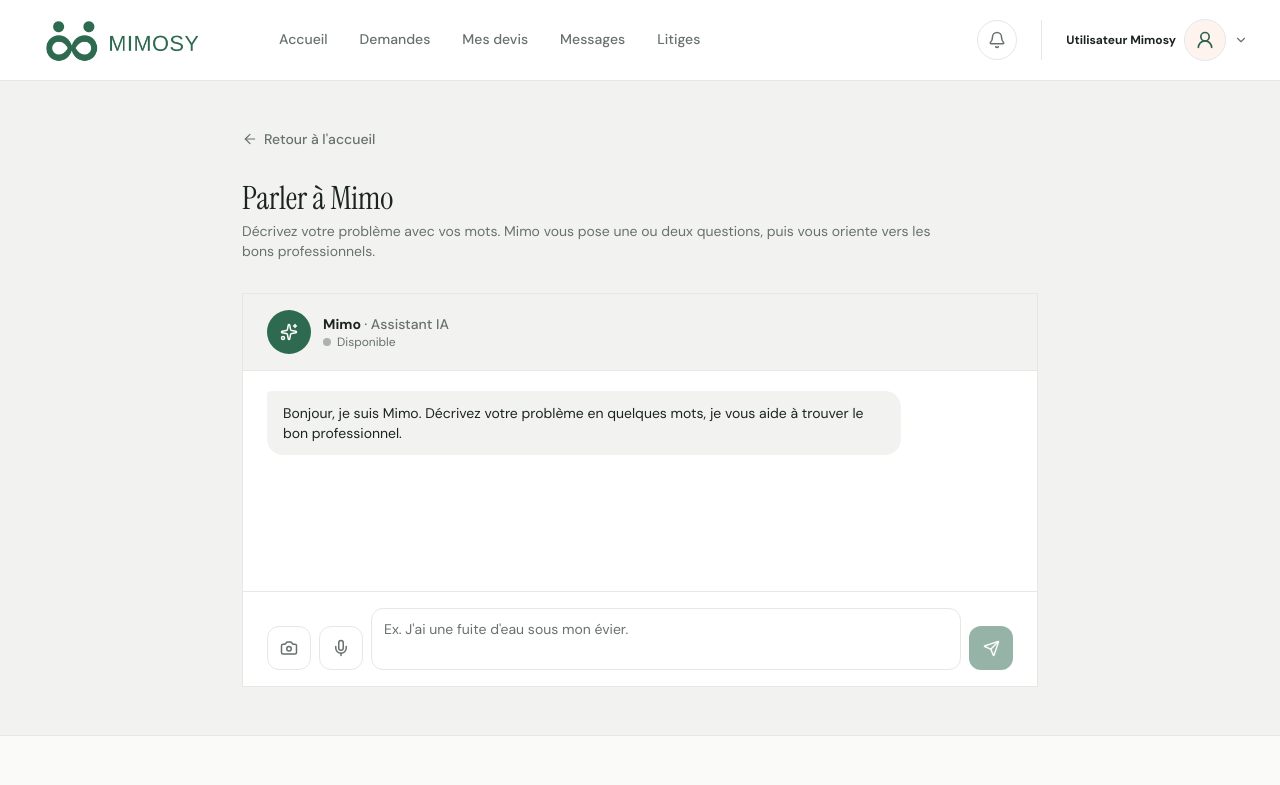
Conversation Mimo (/client/diagnostic) › affiche l’erreur du serveur et permet de renvoyer le message
Type "Fuite sous l’évier" into the text box with test id "mimo-saisie" at (666, 639), box [371, 608, 961, 670]
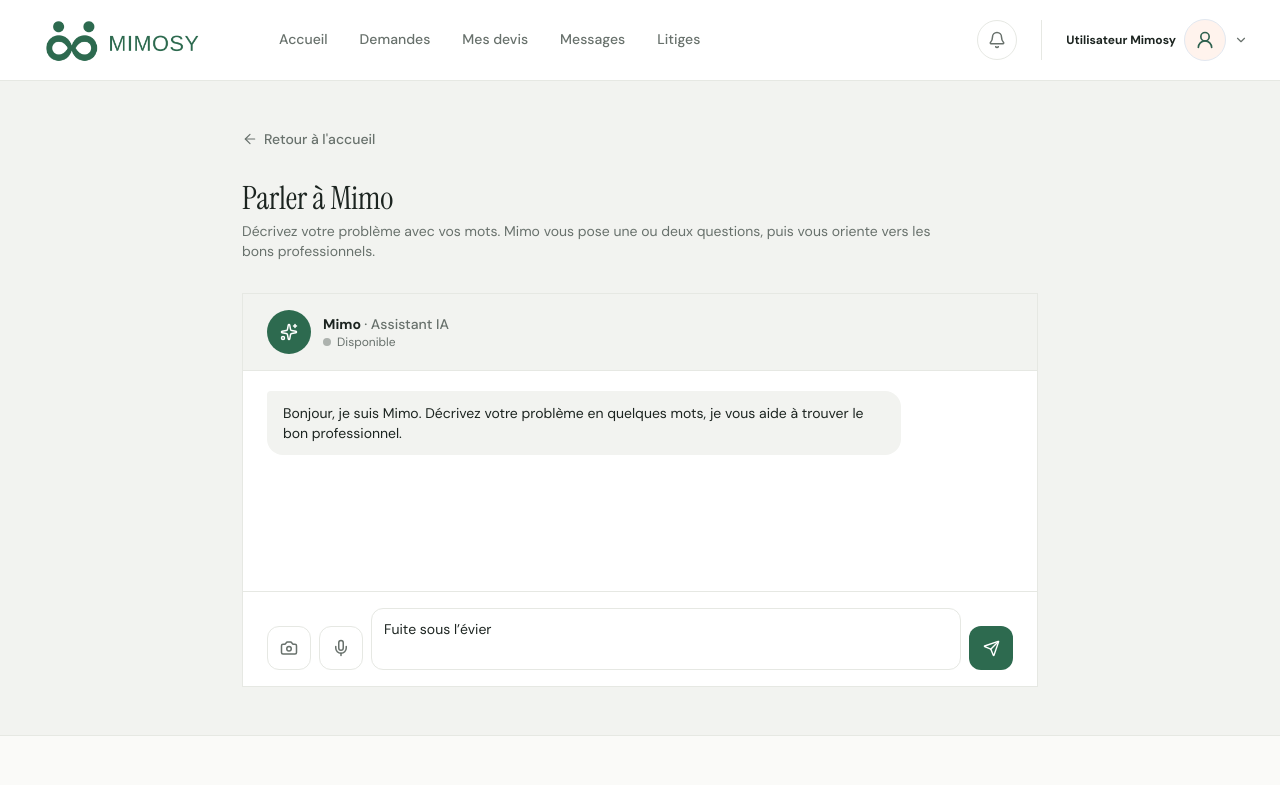
Submit the form, box [243, 591, 1037, 686]
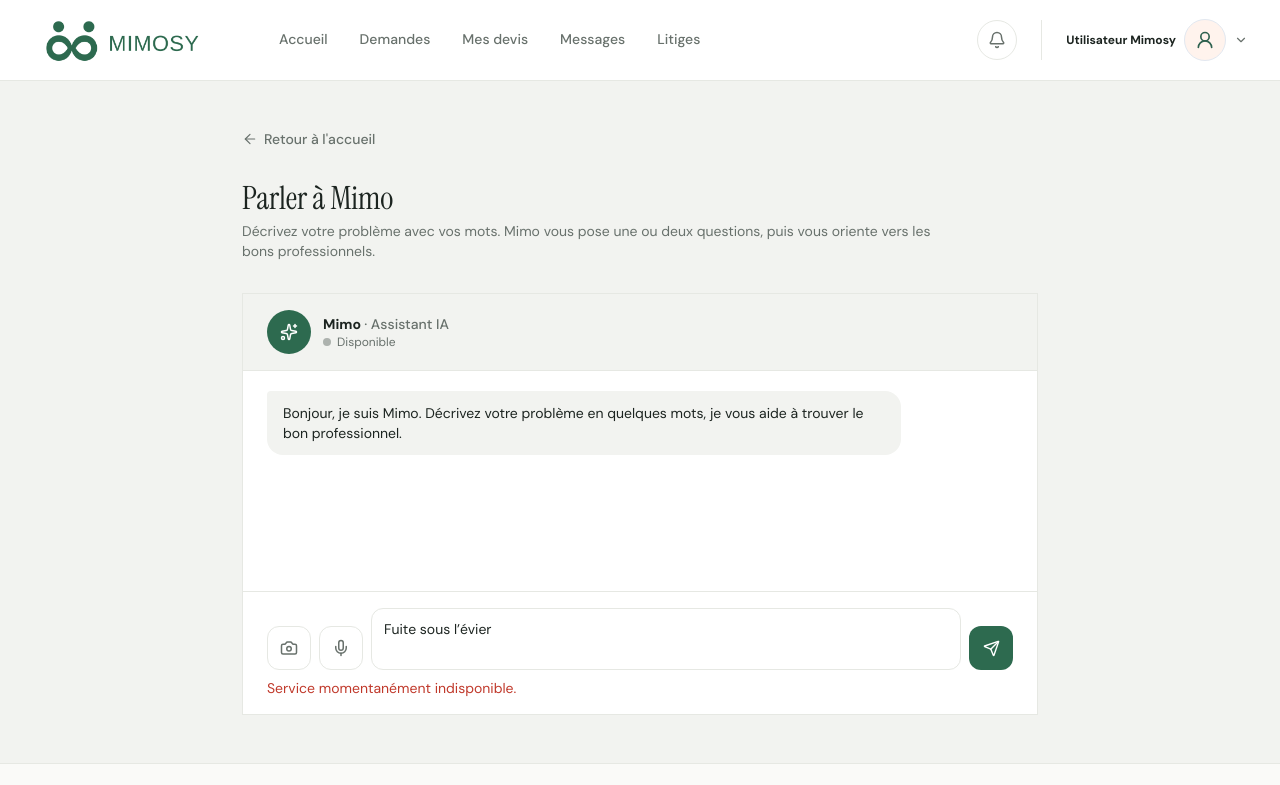
Check: the text "Service momentanément indisponible." is shown, box [267, 679, 516, 697]
